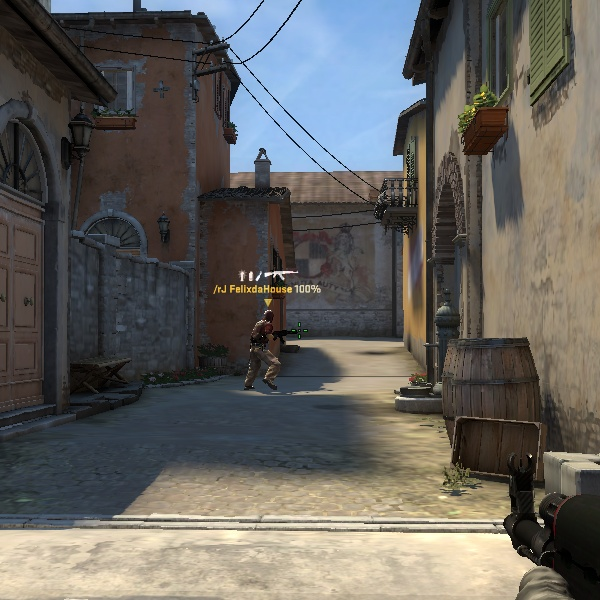t_body: (240, 311, 290, 384)
